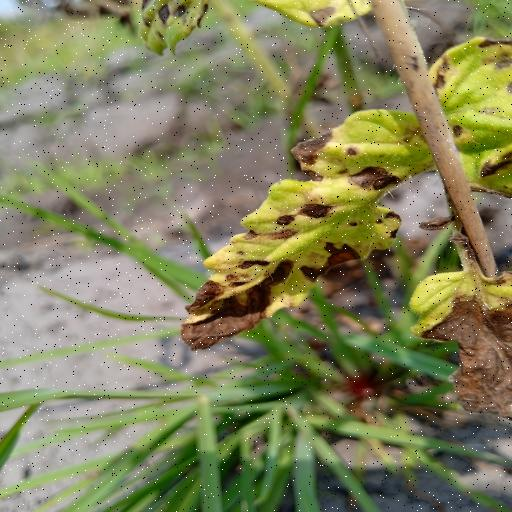Tomato_Brown_Spots: (180, 104, 448, 354)
